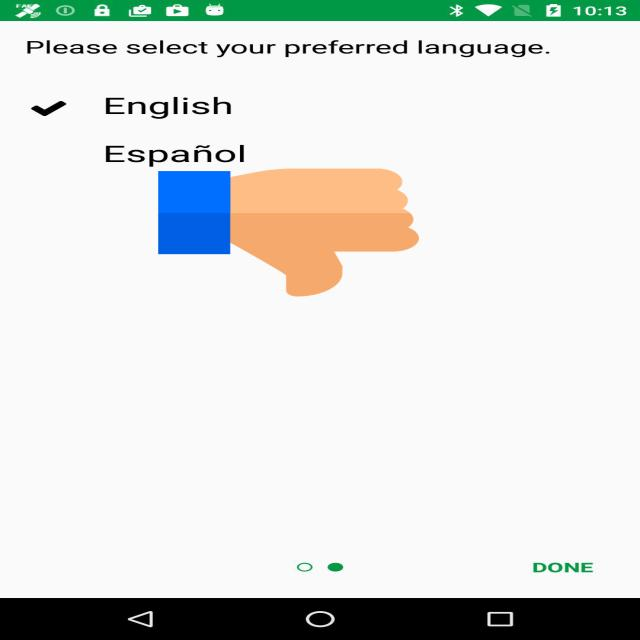obstruction: (158, 165, 419, 300)
